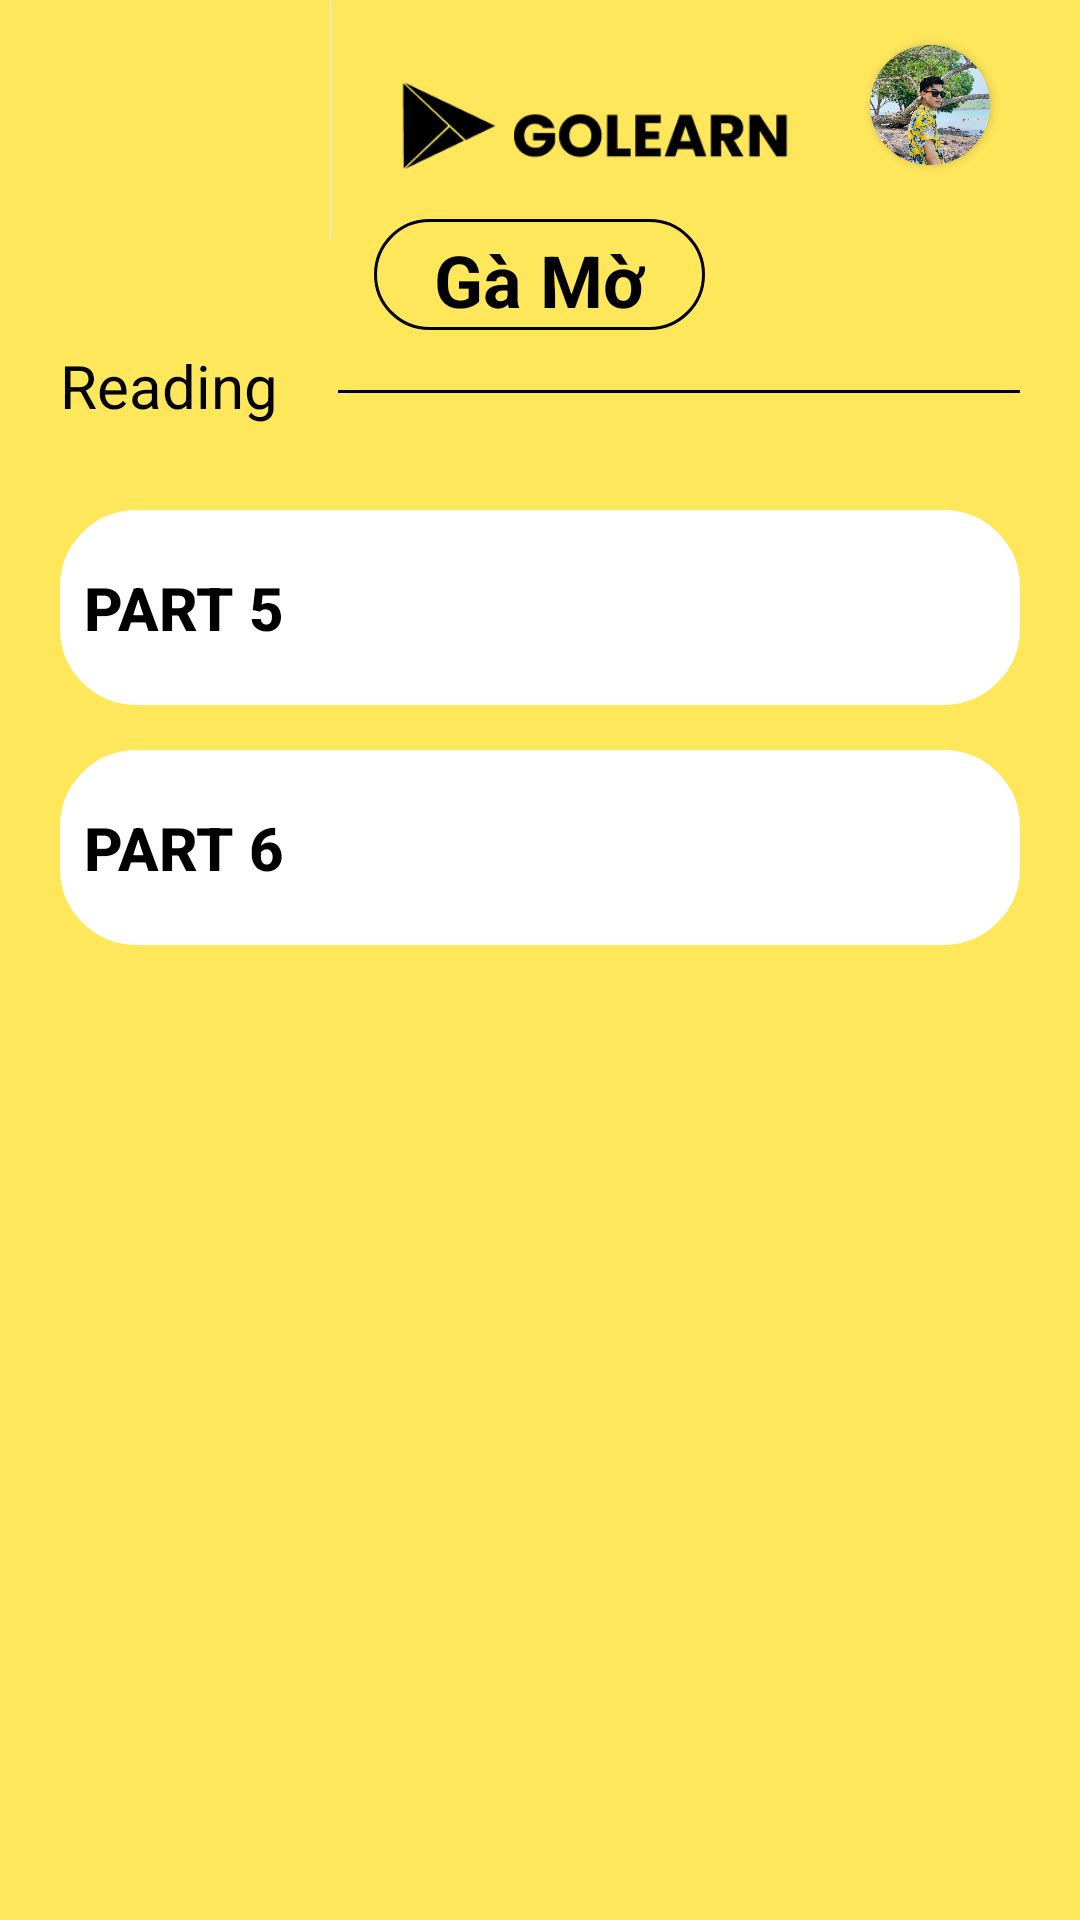

Named icons in this screenshot (1080px×1920px) and their bounding boxes, box=[x1, y1, x2, y2]:
avt: box=[870, 45, 990, 165]
